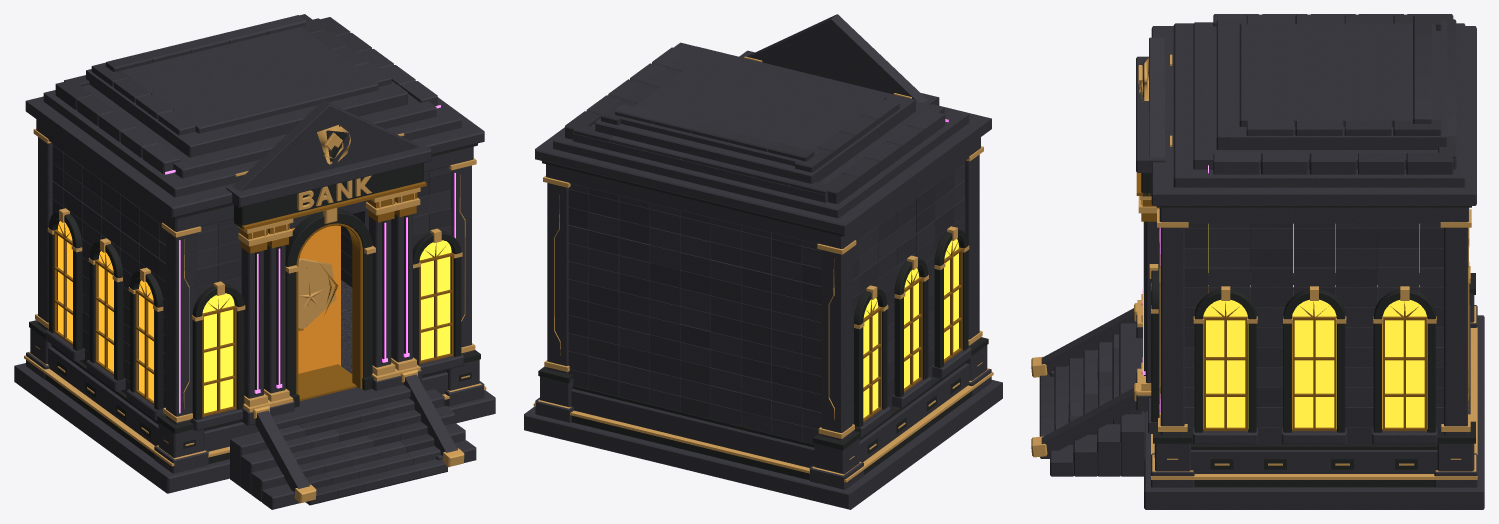
The model's file is bank_lod2.glb.
3 views of the same model, side by side, from view 1: azimuth 30°, elevation 25°; view 2: azimuth 150°, elevation 25°; view 3: azimuth 270°, elevation 25° (orthographic). The views are drawn at different scales.
Visible parts, largest first — view 1: Structure / stone, Structure / dark, Structure / stone variant (×6), Windows / glass, Details / inner, Neon / neon; view 2: Structure / stone, Structure / stone variant (×6), Structure / dark, Windows / glass; view 3: Structure / stone, Structure / stone variant (×6), Structure / dark, Windows / glass.
Boxes of the visible parts, x1=… form: Structure / stone: x1=14, y1=27, x2=495, y2=509; Structure / dark: x1=24, y1=125, x2=486, y2=503; Structure / stone variant (×6): x1=52, y1=14, x2=451, y2=505; Windows / glass: x1=58, y1=221, x2=451, y2=413; Details / inner: x1=291, y1=225, x2=340, y2=373; Neon / neon: x1=165, y1=105, x2=455, y2=413; Structure / stone: x1=524, y1=14, x2=1002, y2=509; Structure / stone variant (×6): x1=565, y1=47, x2=965, y2=443; Structure / dark: x1=533, y1=56, x2=993, y2=482; Windows / glass: x1=863, y1=239, x2=958, y2=417; Structure / stone: x1=1041, y1=19, x2=1484, y2=509; Structure / stone variant (×6): x1=1039, y1=14, x2=1456, y2=458; Structure / dark: x1=1031, y1=54, x2=1477, y2=487; Windows / glass: x1=1159, y1=223, x2=1427, y2=429.
Bounding box in the file's own units: 11.79 × 11.95 × 12.78.
Materials: 11 (11 with a texture image).
